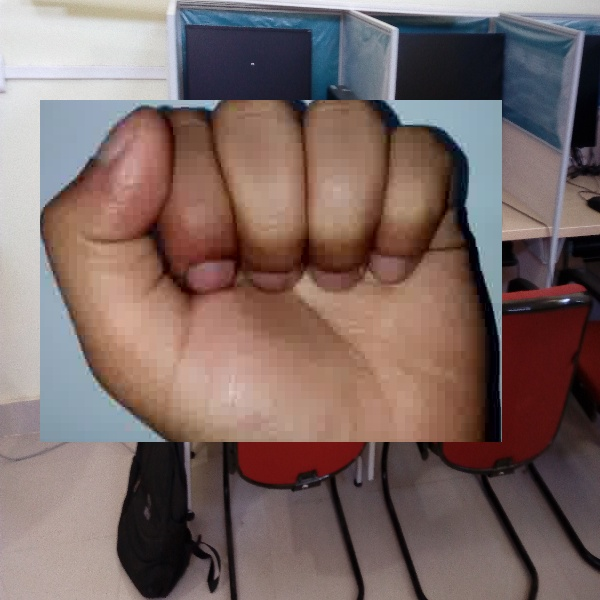A: (40, 100, 502, 442)
